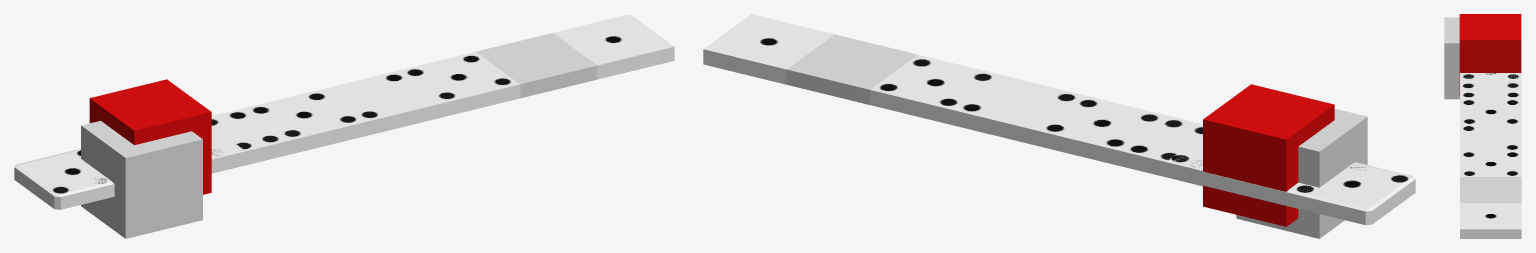
3 renders of one model, left to right at view 1: azimuth 30°, elevation 25°; view 2: azimuth 150°, elevation 25°; view 3: azimuth 270°, elevation 25°, orthographic. The views are drawn at different scales.
Parts seen in each view (by area): view 1: Cube, Dom.303, Cube.001, Dom.010, Dom.101, Dom.202, Dom.212, Dom.111, Dom.111_low_1; view 2: Cube.001, Dom.303, Dom.111, Dom.212, Dom.101, Dom.010, Dom.202, Cube, Dom.111_low_1; view 3: Cube.001, Dom.303, Dom.010, Dom.202, Dom.101, Dom.212, Cube, Dom.111_low_1.
Boxes of the visible parts, box(x1,y1,x2,y2) form: Cube: box(81, 120, 202, 238); Dom.303: box(211, 89, 365, 173); Cube.001: box(89, 79, 211, 194); Dom.010: box(553, 14, 674, 79); Dom.101: box(321, 70, 442, 135); Dom.202: box(476, 33, 597, 98); Dom.212: box(398, 51, 520, 117); Dom.111: box(14, 148, 114, 209); Dom.111_low_1: box(55, 126, 245, 197); Cube.001: box(1203, 84, 1334, 226); Dom.303: box(1036, 95, 1203, 186); Dom.111: box(1207, 162, 1415, 225); Dom.212: box(870, 54, 1000, 125); Dom.101: box(953, 75, 1084, 145); Dom.010: box(703, 14, 834, 84); Dom.202: box(786, 34, 917, 104); Cube: box(1236, 108, 1367, 238); Dom.111_low_1: box(1165, 135, 1370, 211); Cube.001: box(1459, 14, 1521, 95); Dom.303: box(1460, 73, 1521, 124); Dom.010: box(1460, 203, 1521, 238); Dom.202: box(1460, 177, 1521, 203); Dom.101: box(1460, 125, 1521, 150); Dom.212: box(1460, 151, 1521, 176); Cube: box(1444, 17, 1459, 99); Dom.111_low_1: box(1463, 36, 1521, 83).
Bounding box in the file's own units: 16 × 2.36 × 2.5.
Materials: 7 (5 with a texture image).
